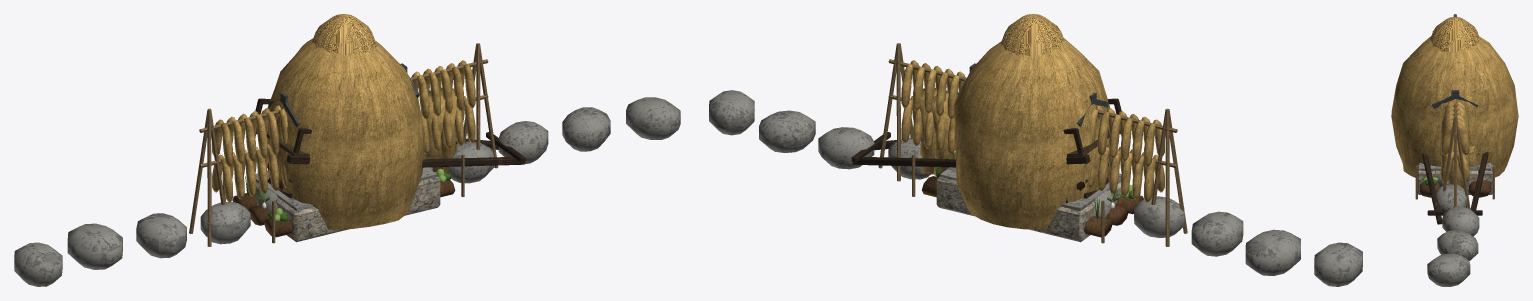
The model's file is props_eastasia.glb.
The picture shows the model from 3 angles, left to right: view 1: azimuth 30°, elevation 25°; view 2: azimuth 150°, elevation 25°; view 3: azimuth 270°, elevation 25°; orthographic projection. The views are drawn at different scales.
Visible parts, largest first — view 1: straw_stack_mesh, stones_ea_mesh, rice_rack_mesh, jangdok_mesh, cart_ea_mesh, veg_bed_ea_mesh, woodpile_ea_mesh; view 2: straw_stack_mesh, stones_ea_mesh, rice_rack_mesh, jangdok_mesh, cart_ea_mesh, veg_bed_ea_mesh, woodpile_ea_mesh; view 3: straw_stack_mesh, stones_ea_mesh, rice_rack_mesh, cart_ea_mesh, veg_bed_ea_mesh, jangdok_mesh, wall_earth_ea_mesh, woodpile_ea_mesh, bales_ea_mesh.
Part boxes in pixels (bbox=[...]): straw_stack_mesh: bbox=[267, 14, 425, 230]; stones_ea_mesh: bbox=[14, 97, 680, 286]; rice_rack_mesh: bbox=[189, 43, 498, 246]; jangdok_mesh: bbox=[255, 163, 440, 242]; cart_ea_mesh: bbox=[255, 98, 525, 167]; veg_bed_ea_mesh: bbox=[222, 154, 464, 243]; woodpile_ea_mesh: bbox=[267, 87, 457, 198]; straw_stack_mesh: bbox=[954, 14, 1109, 229]; stones_ea_mesh: bbox=[709, 90, 1362, 286]; rice_rack_mesh: bbox=[878, 43, 1187, 246]; jangdok_mesh: bbox=[936, 167, 1121, 242]; cart_ea_mesh: bbox=[851, 98, 1121, 167]; veg_bed_ea_mesh: bbox=[912, 151, 1154, 243]; woodpile_ea_mesh: bbox=[919, 87, 1109, 198]; straw_stack_mesh: bbox=[1391, 17, 1518, 177]; stones_ea_mesh: bbox=[1427, 31, 1479, 286]; rice_rack_mesh: bbox=[1440, 14, 1470, 209]; cart_ea_mesh: bbox=[1422, 151, 1488, 224]; veg_bed_ea_mesh: bbox=[1415, 166, 1494, 199]; jangdok_mesh: bbox=[1416, 162, 1493, 194]; wall_earth_ea_mesh: bbox=[1432, 89, 1478, 108]; woodpile_ea_mesh: bbox=[1447, 138, 1463, 188]; bales_ea_mesh: bbox=[1469, 146, 1477, 166].
Bounding box in the file's own units: 10.67 × 3.12 × 2.32.
Materials: 16 (12 with a texture image).
